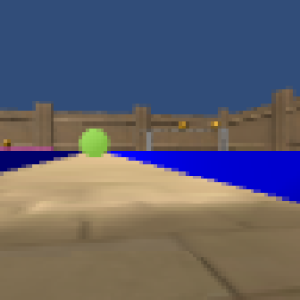goodGoal: (78, 127, 109, 158)
goodGoalMulti: (1, 135, 15, 146), (208, 120, 221, 131), (177, 121, 191, 131)
platform: (108, 150, 300, 203), (1, 151, 78, 175)
ramp: (1, 145, 54, 151)
wall: (217, 128, 230, 152), (145, 128, 154, 149)
